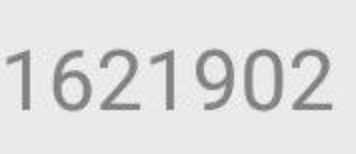TextView: (1, 1, 355, 153)
